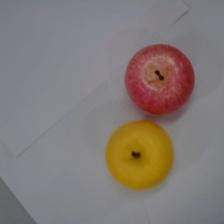red: (125, 44, 194, 114)
yellow: (106, 120, 174, 190)
